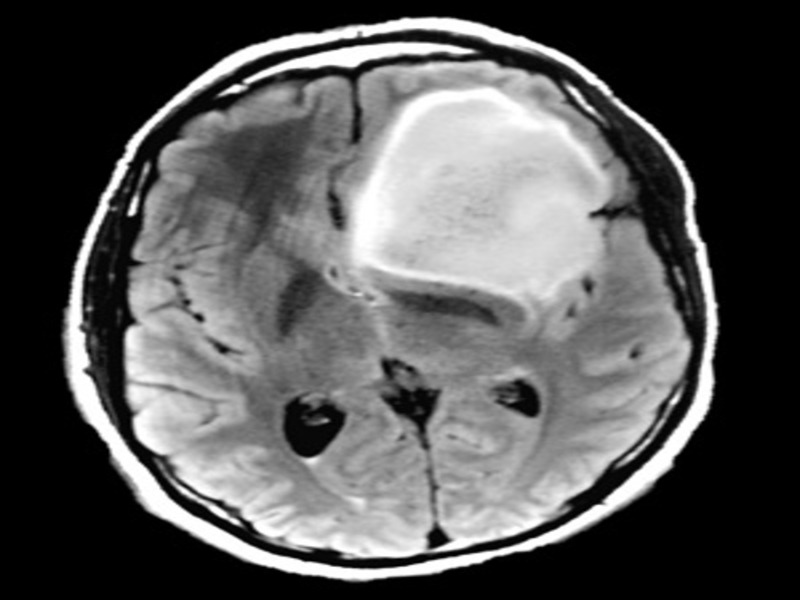tumor: (336, 81, 615, 323)
